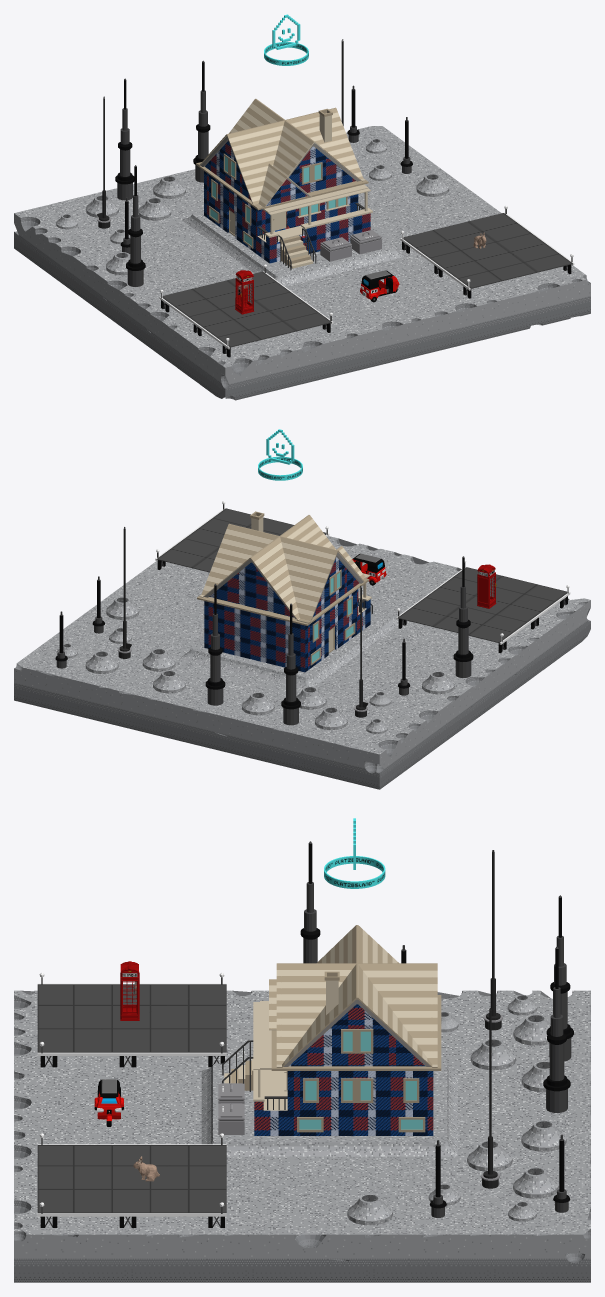
The picture shows the model from 3 angles, top to bottom: view 1: azimuth 30°, elevation 25°; view 2: azimuth 150°, elevation 25°; view 3: azimuth 270°, elevation 25°; orthographic projection. The views are drawn at different scales.
Visible parts, largest first — view 1: Cube.027, Cube.171, Cube.026, Cube.025, Cube.028, Cylinder.021, Cylinder.020, Cylinder.017, TYPE_PREMIUM, VEHICLES_TUC_TUC, OBJRANDOM_PHONEBOOTH, Cube.029 (+4 smaller); view 2: Cube.027, Cube.171, Cube.025, Cube.028, Cube.026, Cylinder.017, Cylinder.021, Cylinder.020, TYPE_PREMIUM, OBJRANDOM_PHONEBOOTH, VEHICLES_TUC_TUC, Cylinder.030 (+8 smaller); view 3: Cube.027, Cube.171, Cube.026, Cube.025, Cube.028, Cylinder.017, Cylinder.020, Cylinder.021, TYPE_PREMIUM, Cylinder.033, Cylinder.031, VEHICLES_TUC_TUC (+11 smaller).
Part boxes in pixels (x1,y1,x2,y2): Cube.027: (14, 126, 590, 400); Cube.171: (196, 98, 372, 269); Cube.026: (400, 205, 574, 298); Cube.025: (159, 264, 333, 357); Cube.028: (182, 211, 403, 286); Cylinder.021: (126, 165, 145, 286); Cylinder.020: (115, 78, 134, 200); Cylinder.017: (193, 60, 210, 182); TYPE_PREMIUM: (264, 14, 308, 65); VEHICLES_TUC_TUC: (360, 270, 399, 302); OBJRANDOM_PHONEBOOTH: (235, 270, 254, 314); Cube.029: (320, 237, 351, 261); Cube.027: (14, 536, 590, 789); Cube.171: (197, 511, 372, 672); Cube.025: (396, 560, 570, 653); Cube.028: (181, 610, 398, 688); Cube.026: (155, 501, 329, 572); Cylinder.017: (205, 583, 225, 705); Cylinder.021: (453, 556, 473, 677); Cylinder.020: (281, 603, 300, 725); TYPE_PREMIUM: (258, 429, 302, 480); OBJRANDOM_PHONEBOOTH: (477, 564, 496, 608); VEHICLES_TUC_TUC: (352, 553, 386, 585); Cylinder.030: (142, 648, 175, 671); Cube.027: (14, 990, 590, 1282); Cube.171: (222, 925, 441, 1135); Cube.026: (37, 1133, 226, 1227); Cube.025: (37, 973, 226, 1067); Cube.028: (201, 1063, 457, 1156); Cylinder.017: (543, 946, 570, 1112); Cylinder.020: (546, 895, 573, 1061); Cylinder.021: (300, 841, 320, 963); TYPE_PREMIUM: (324, 818, 385, 888); Cylinder.033: (347, 1194, 392, 1225); Cylinder.031: (513, 1167, 558, 1198); VEHICLES_TUC_TUC: (94, 1079, 123, 1126).
Size of the model in its own units: 4000 by 2703 by 4000.
Materials: 49 (6 with a texture image).
